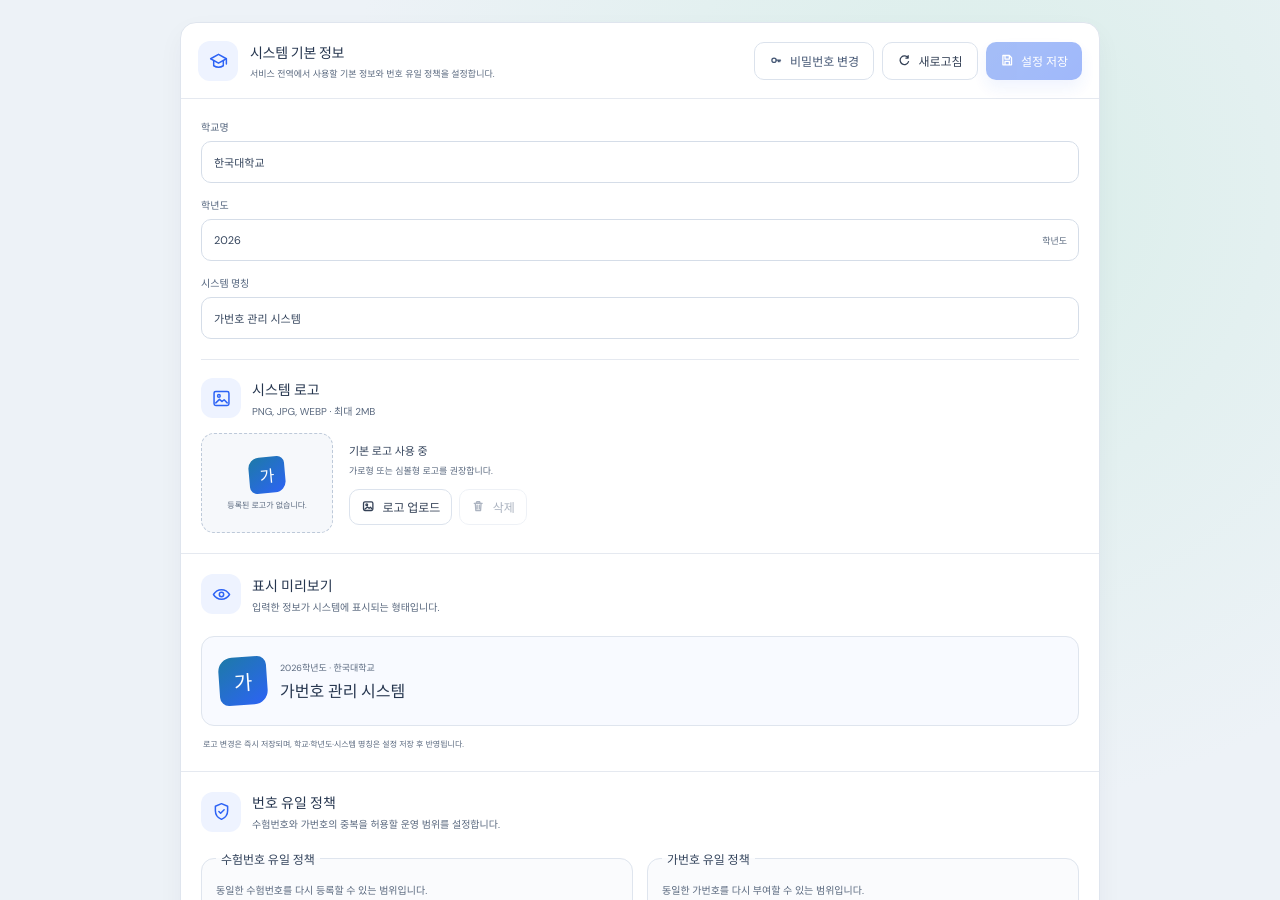
it: DeveloperSettingsPage number uniqueness policy › 비밀번호 저장 중에는 버튼과 ESC 종료를 비활성화하고 완료 후 다시 닫을 수 있다
Click the button "비밀번호 변경" at (814, 60), box [754, 42, 874, 80]
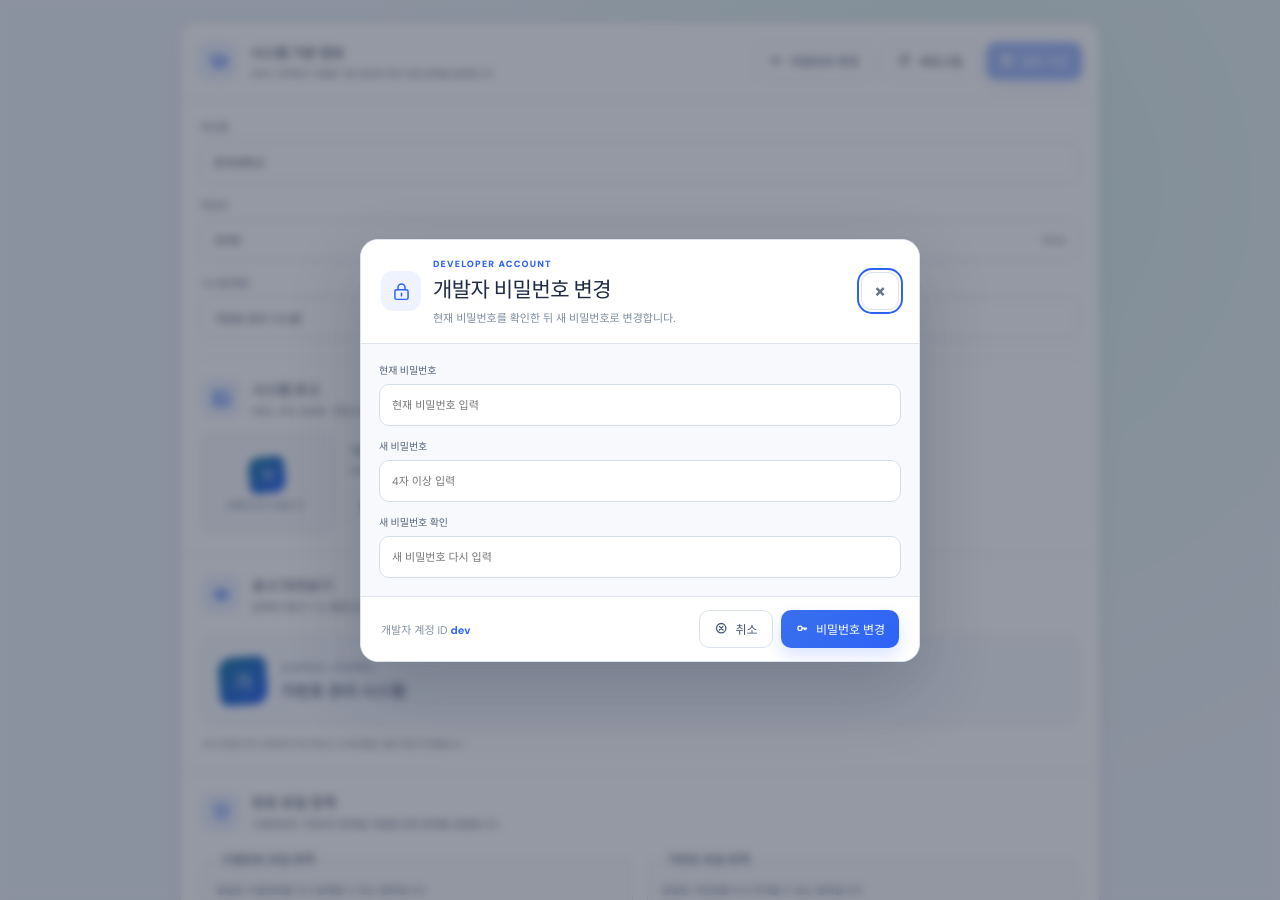
Type "1234" into the password field labelled "현재 비밀번호" at (640, 404), box [379, 384, 901, 426]
Type "5678" into the password field labelled "새 비밀번호" at (640, 480), box [379, 460, 901, 502]
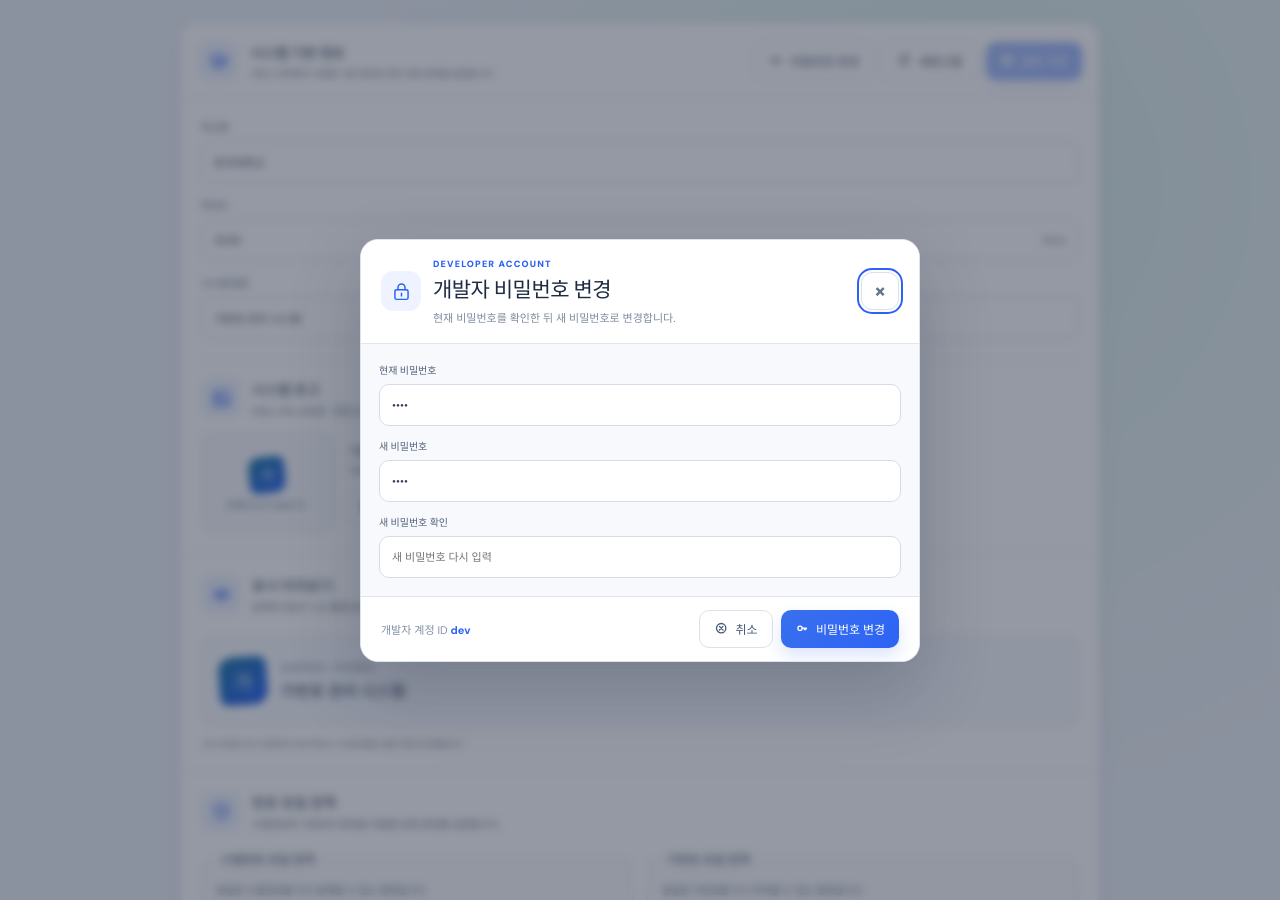
Type "5678" into the password field labelled "새 비밀번호 확인" at (640, 556), box [379, 536, 901, 578]
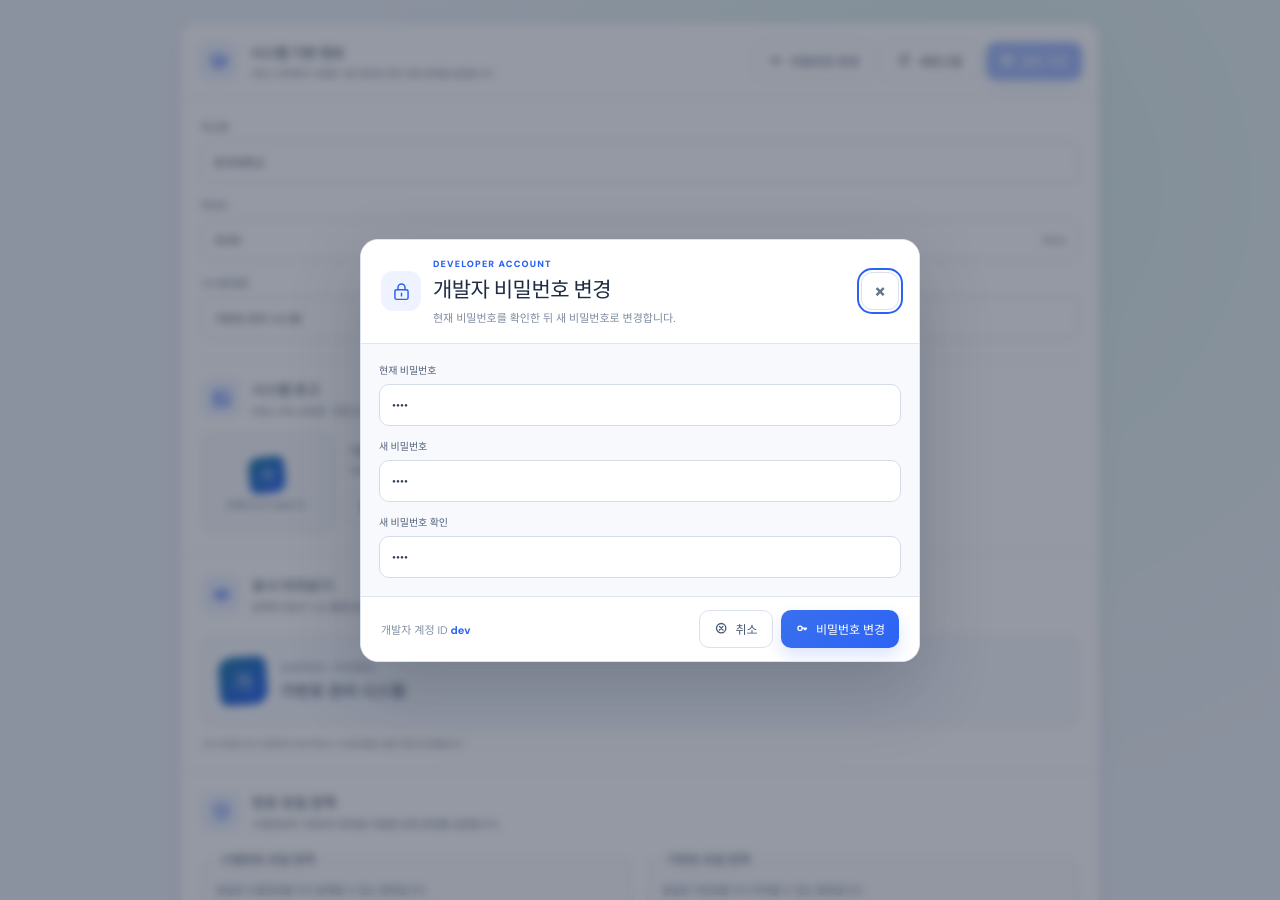
Click the button "비밀번호 변경" at (840, 628), box [781, 610, 899, 648]
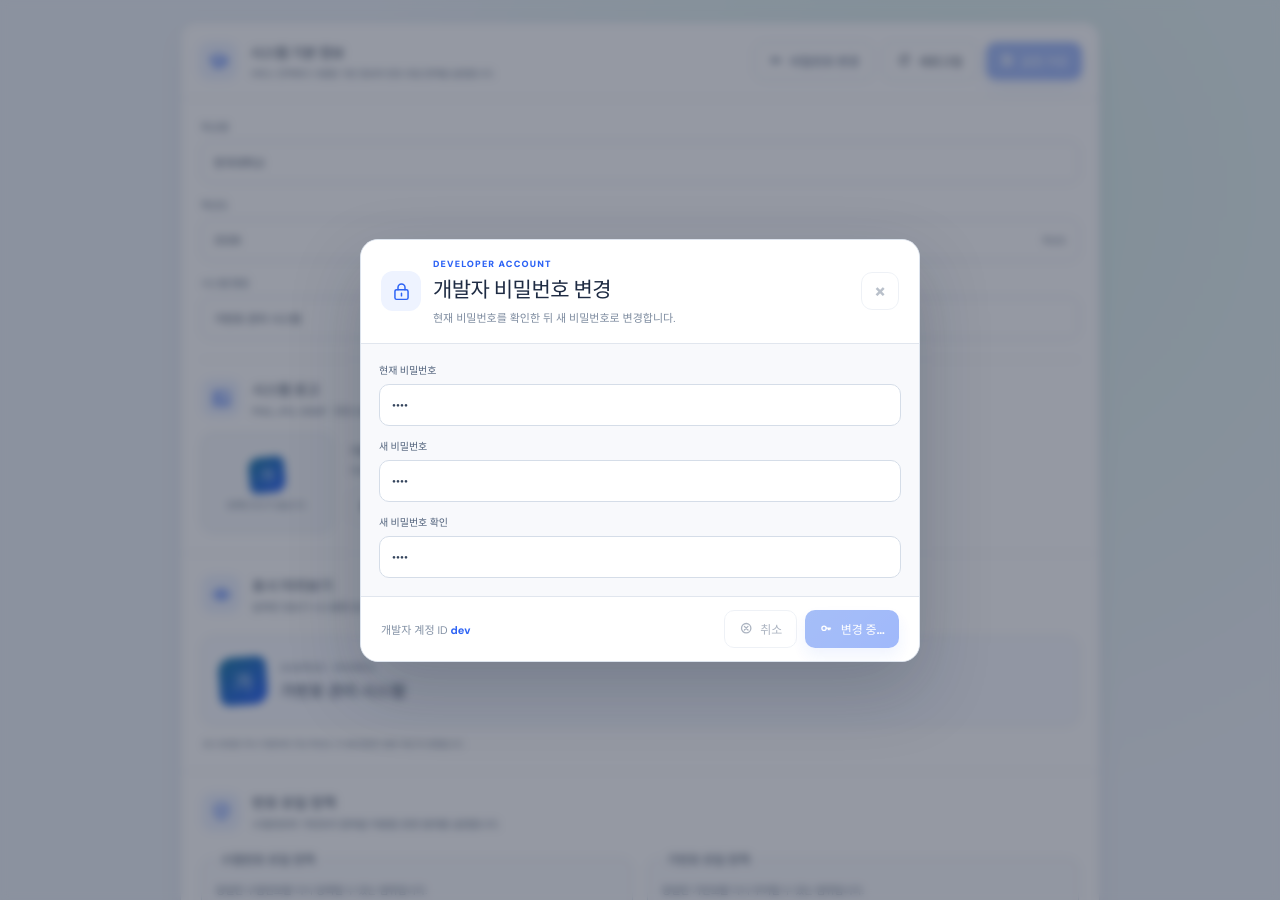
Expected: the button "변경 중…" is disabled, [805, 610, 899, 648]
Expected: the button named "닫기" is disabled, [861, 272, 899, 310]
Press Escape
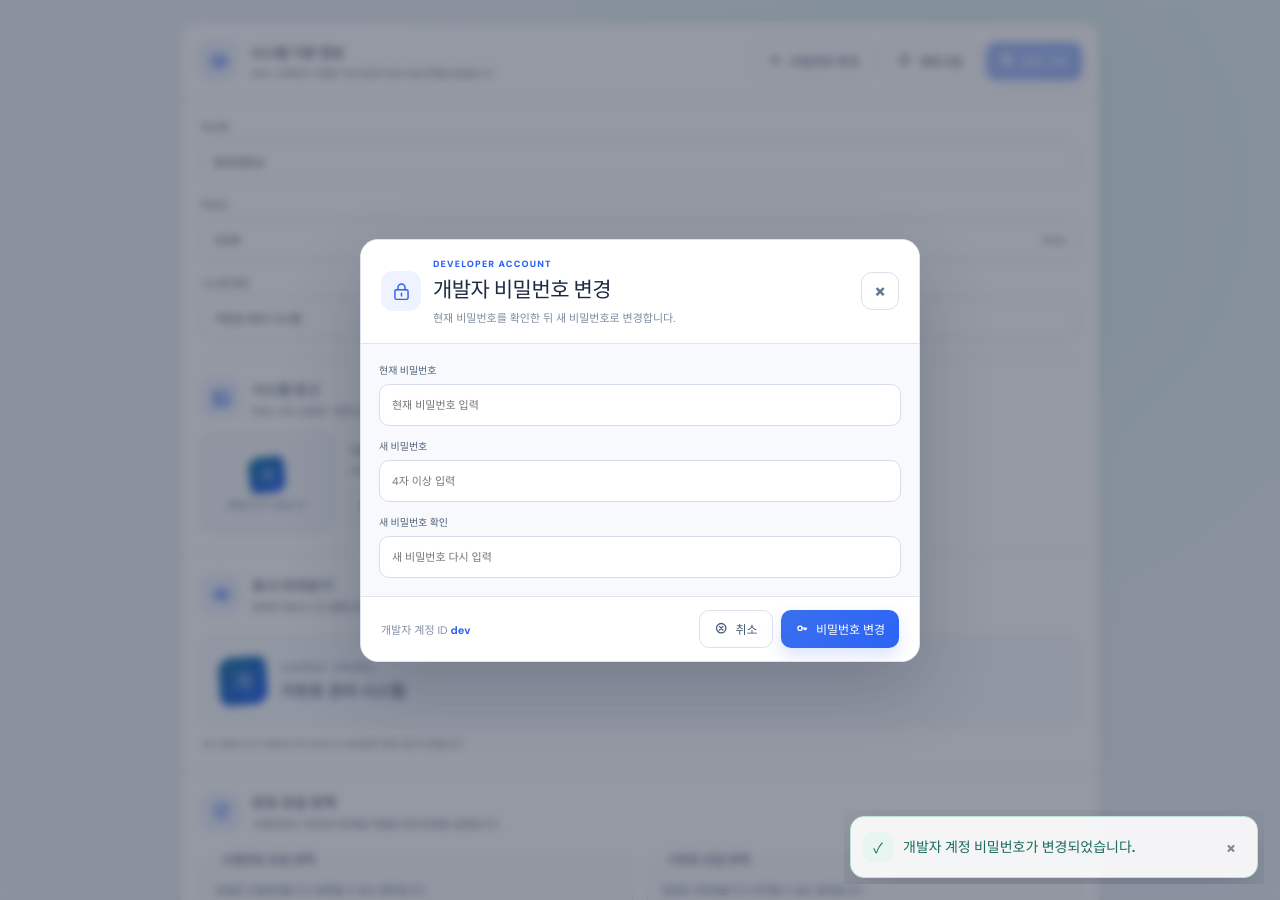
Expected: the dialog "개발자 비밀번호 변경" is shown, [360, 238, 920, 662]
Expected: the message shows "개발자 계정 비밀번호가 변경되었습니다.", [903, 838, 1135, 856]
Press Escape
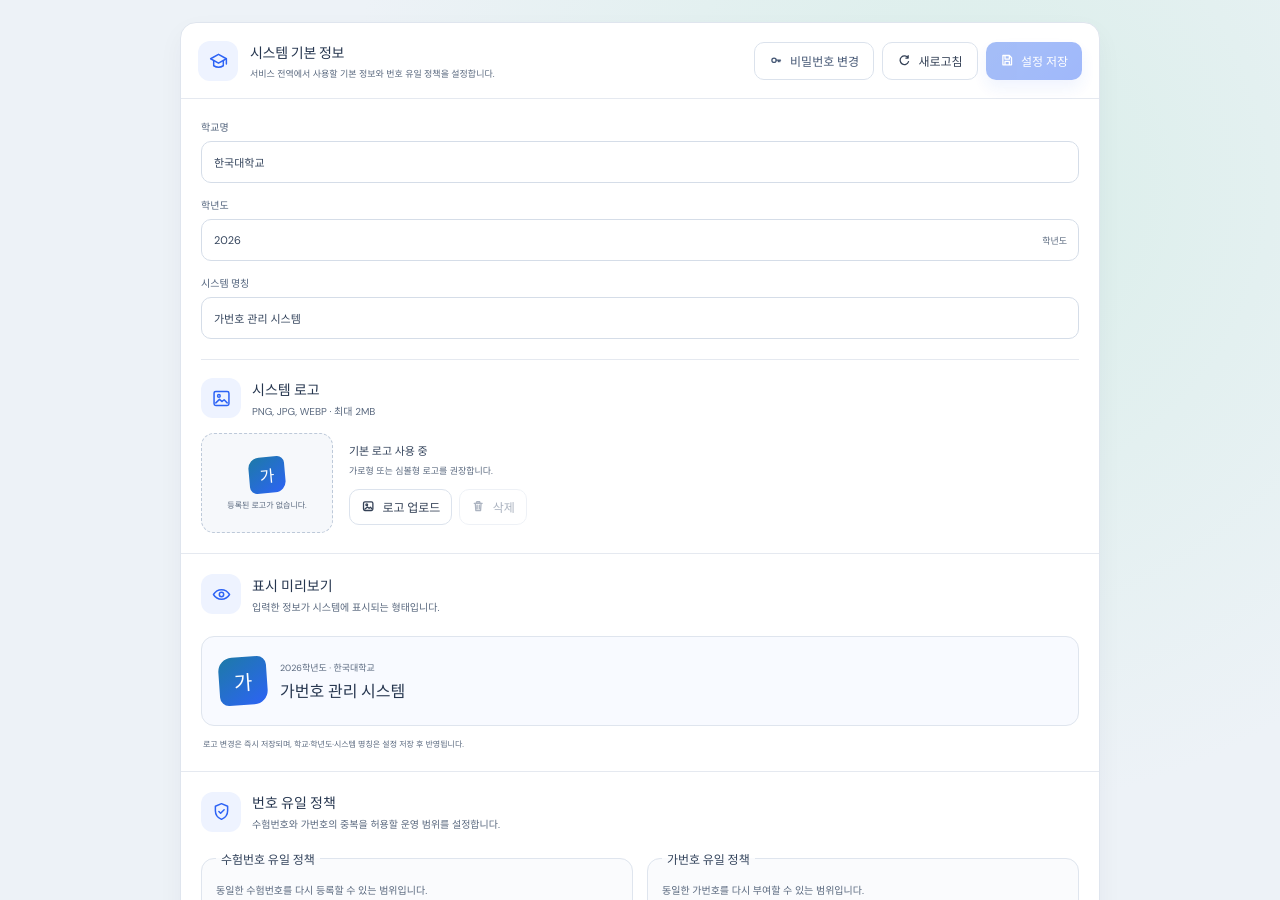
Expected: the heading "개발자 비밀번호 변경" is gone
